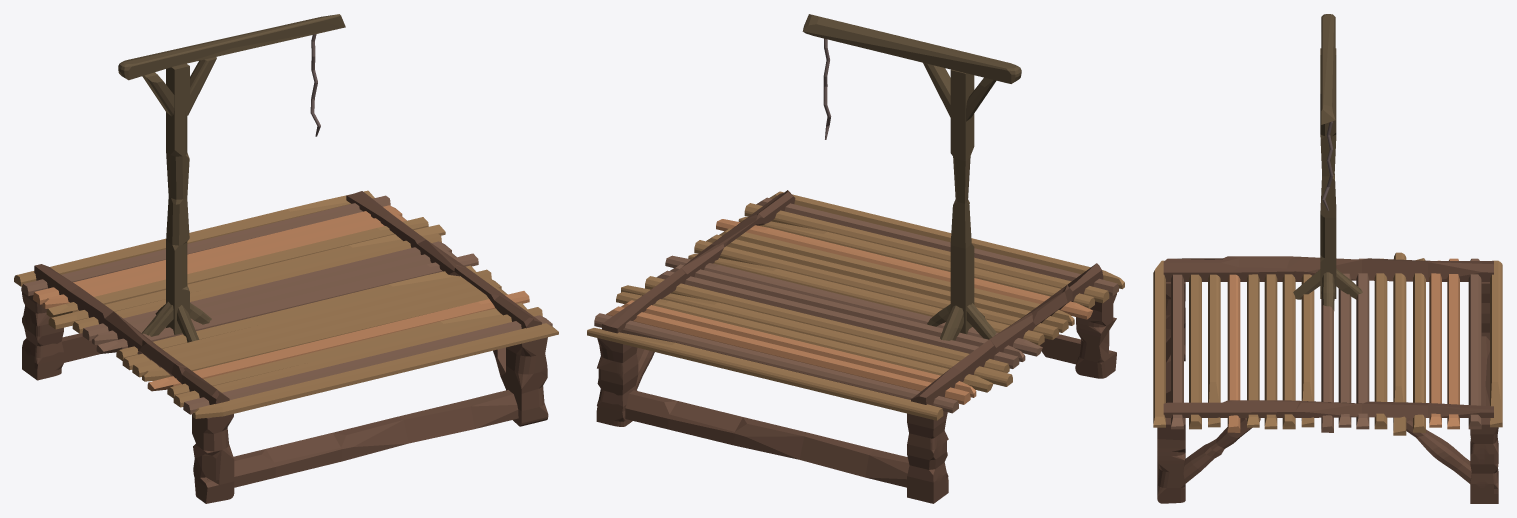
Rendered from hanger.fbx.
3 renders of one model, left to right at view 1: azimuth 30°, elevation 25°; view 2: azimuth 150°, elevation 25°; view 3: azimuth 270°, elevation 25°, orthographic. The views are drawn at different scales.
Parts seen in each view (by area): view 1: Cube.345, Cube.318, Cube.306, Cube.331, Cube.313, Cube.330, Cube.327, Cube.340, Cube.343, Cube.335, Cube.332, Cube.339 (+18 smaller); view 2: Cube.325, Cube.306, Cube.344, Cube.313, Cube.343, Cube.342, Cube.339, Cube.327, Cube.338, Cube.330, Cube.328, Cube.322 (+17 smaller); view 3: Cube.327, Cube.347, Cube.306, Cube.320, Cube.319, Cube.339, Cube.318, Cube.344, Cube.343, Cube.338, Cube.337, Cube.330 (+20 smaller).
Part boxes in pixels (box(x1,y1,x2,y2)): Cube.345: box(207, 390, 518, 487); Cube.318: box(193, 323, 558, 418); Cube.306: box(166, 63, 189, 334); Cube.331: box(142, 286, 507, 381); Cube.313: box(118, 14, 345, 80); Cube.330: box(147, 291, 529, 391); Cube.327: box(34, 264, 229, 404); Cube.340: box(46, 217, 428, 317); Cube.343: box(21, 195, 390, 295); Cube.335: box(96, 253, 478, 353); Cube.332: box(132, 278, 501, 377); Cube.339: box(48, 224, 445, 329); Cube.325: box(625, 390, 909, 487); Cube.306: box(950, 69, 974, 334); Cube.344: box(587, 328, 943, 420); Cube.313: box(802, 14, 1021, 83); Cube.343: box(594, 313, 958, 413); Cube.342: box(606, 306, 970, 404); Cube.339: box(621, 285, 1012, 386); Cube.327: box(911, 263, 1103, 405); Cube.338: box(645, 276, 1009, 372); Cube.330: box(716, 219, 1092, 319); Cube.328: box(744, 203, 1109, 303); Cube.322: box(907, 411, 948, 503); Cube.327: box(1163, 256, 1493, 281); Cube.347: box(1163, 400, 1493, 417); Cube.306: box(1320, 48, 1336, 298); Cube.320: box(1470, 418, 1498, 503); Cube.319: box(1157, 418, 1185, 503); Cube.339: box(1393, 252, 1406, 435); Cube.318: box(1153, 260, 1165, 427); Cube.344: box(1490, 260, 1502, 427); Cube.343: box(1468, 258, 1481, 429); Cube.338: box(1374, 258, 1387, 429); Cube.337: box(1356, 258, 1369, 429); Cube.330: box(1227, 274, 1240, 432).
Bounding box in the file's own units: 2053 × 1867 × 1733.
